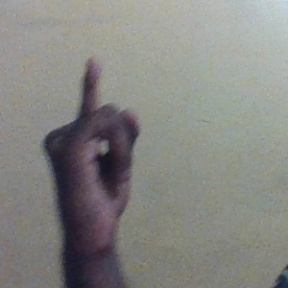I: (39, 57, 142, 230)
